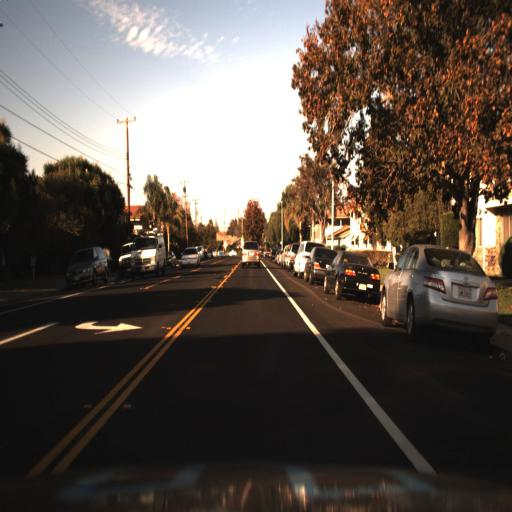car: (380, 242, 499, 350), (321, 245, 380, 311), (323, 250, 382, 300), (63, 241, 113, 293), (65, 242, 111, 291), (129, 227, 169, 282), (306, 244, 336, 286), (301, 241, 324, 284), (292, 237, 316, 275), (241, 234, 264, 271), (176, 246, 201, 271), (291, 237, 303, 280), (164, 245, 177, 271)
